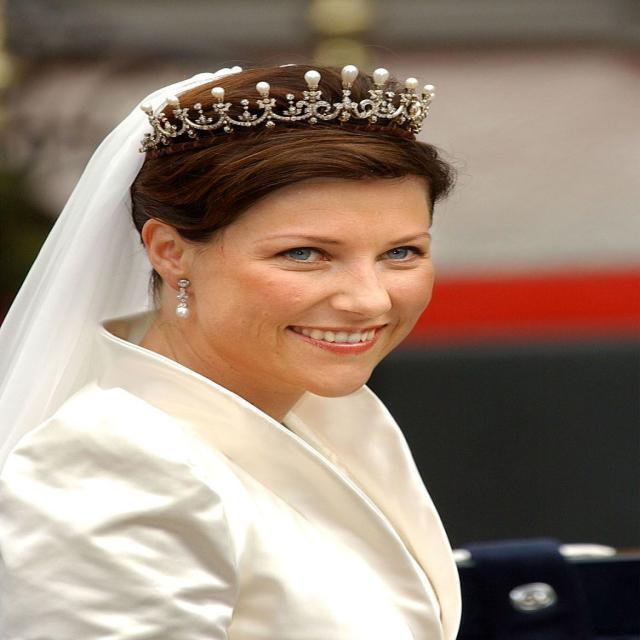Earring: (172, 264, 202, 328)
